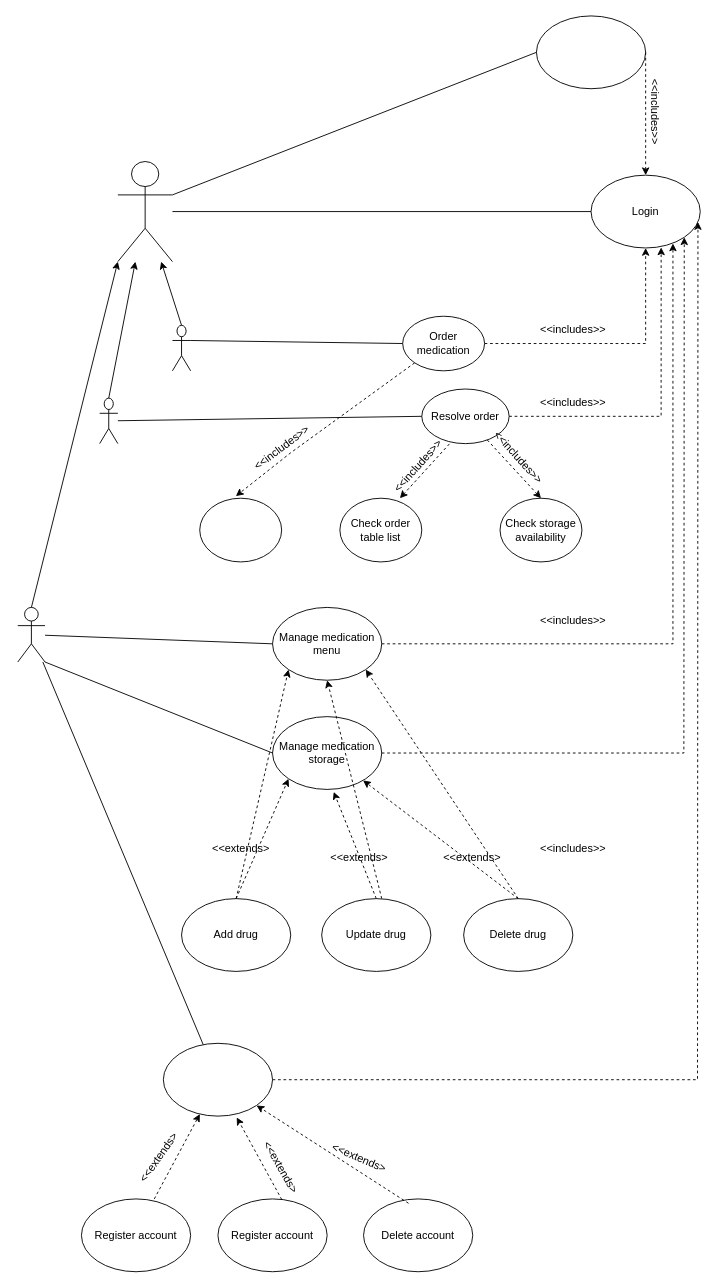
The diagram is 722 pixels wide and 1288 high, and some of its shapes have lost their labels. The centre of each missing label's shape, as x and y in pixels:
"Admin" goes at [31,634].
"Check medication menu" goes at [240,529].
"Hospital staff" goes at [108,420].
"Logout" goes at [591,52].
"Manages accounts" goes at [217,1079].
"Pharmacy staff" goes at [181,347].
"User" goes at [144,211].
